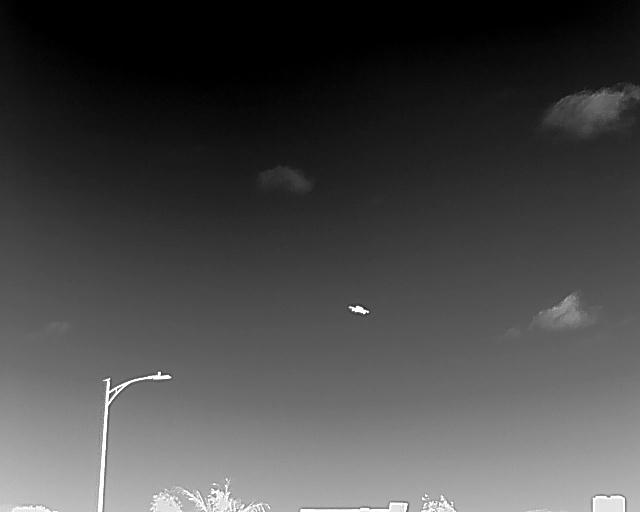fpv-drone: (347, 304, 369, 315)
